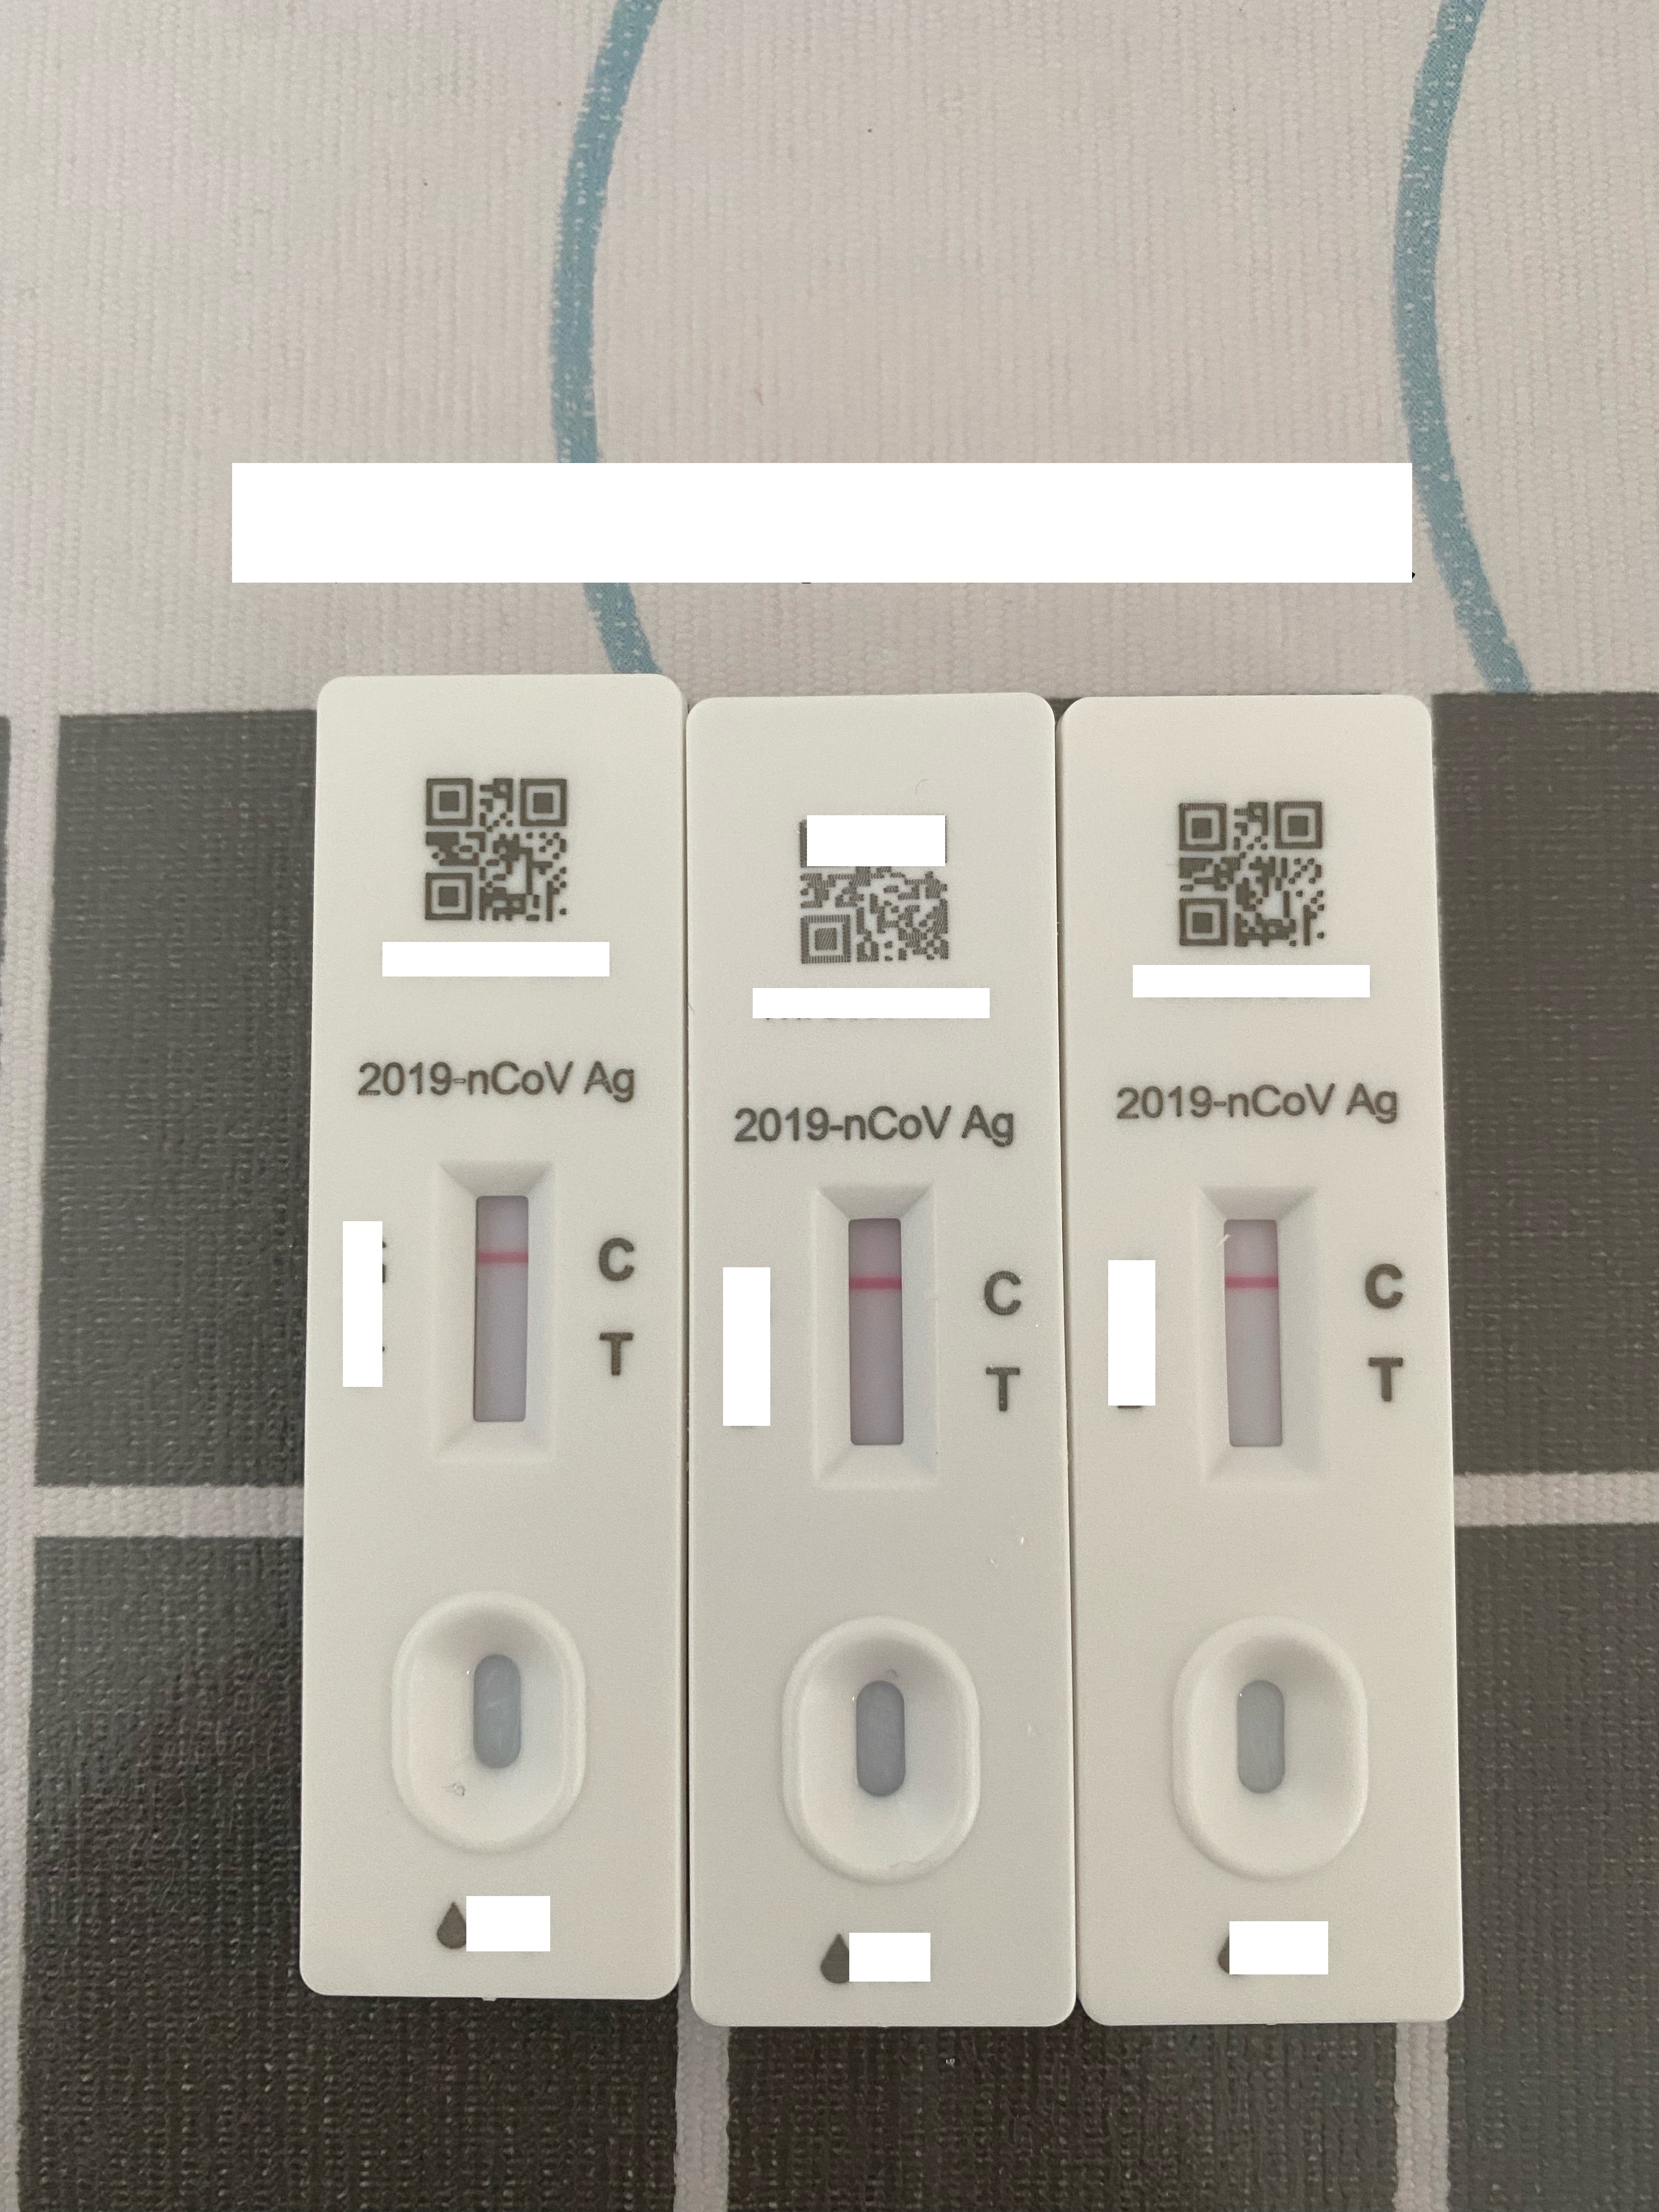negative: (816, 1176, 934, 1475), (441, 1158, 556, 1440), (1206, 1179, 1316, 1467)
